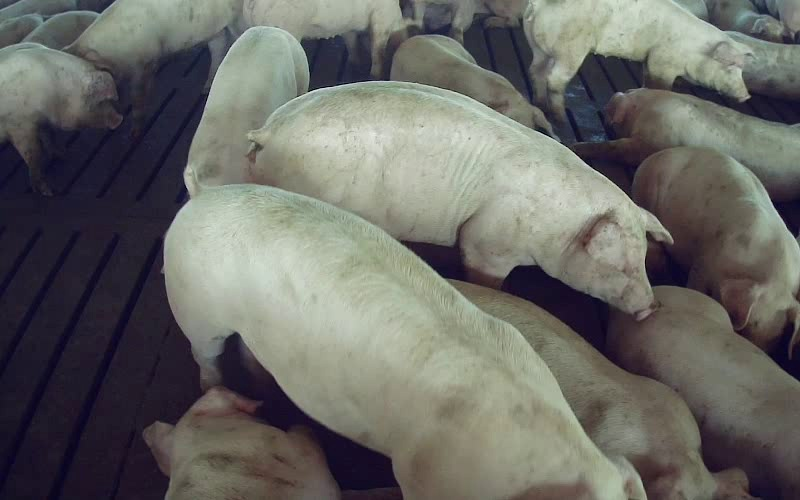pig: (164, 170, 643, 497), (250, 82, 671, 317), (451, 282, 750, 499), (607, 286, 799, 499), (632, 147, 799, 357), (523, 0, 749, 120), (573, 88, 799, 201), (188, 26, 308, 185), (390, 35, 557, 139), (243, 0, 408, 78)
